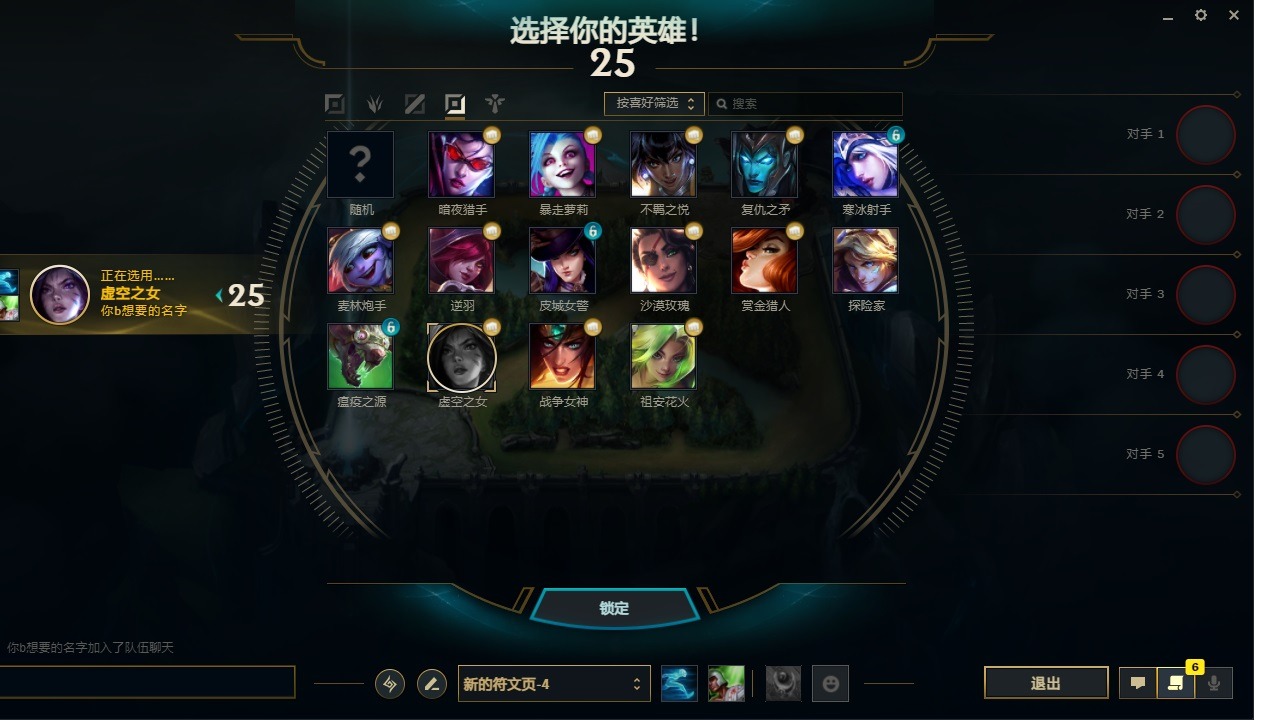HBSS: (830, 154, 904, 199)
JKS: (531, 152, 599, 201)
NJ: (528, 248, 599, 296)
NQ: (725, 255, 802, 295)
SD: (522, 581, 712, 639)
XDXL: (439, 88, 469, 119)
XP: (328, 256, 397, 292)
